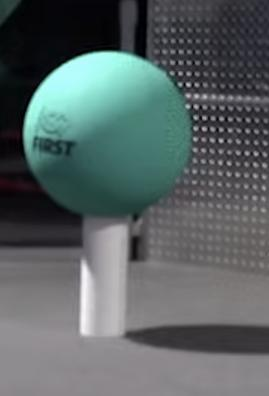algae: (23, 52, 192, 216)
coral: (79, 216, 133, 337)
